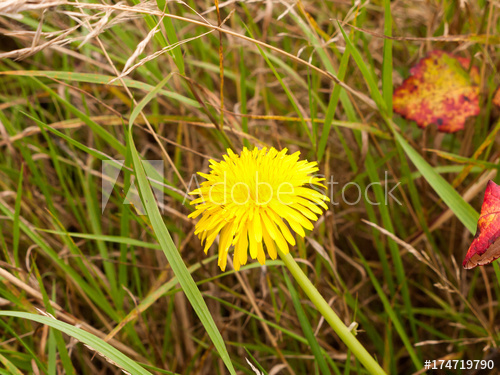dandelion: (187, 148, 325, 260)
